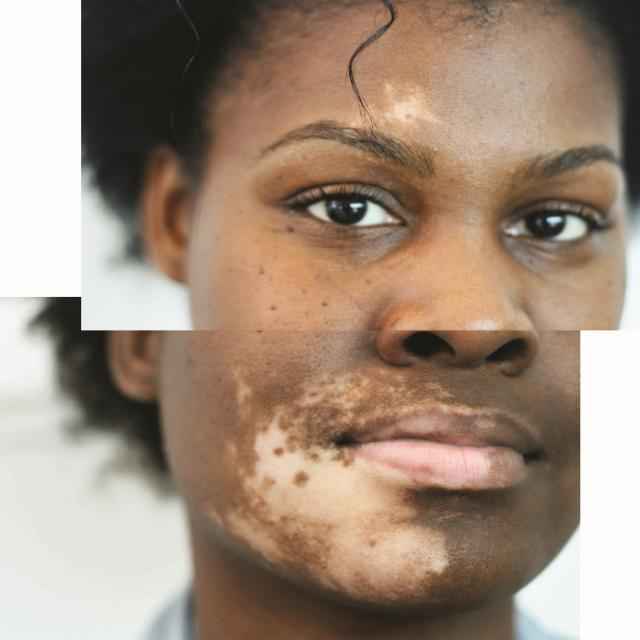vitiligo: (214, 369, 494, 616), (363, 59, 477, 171)
